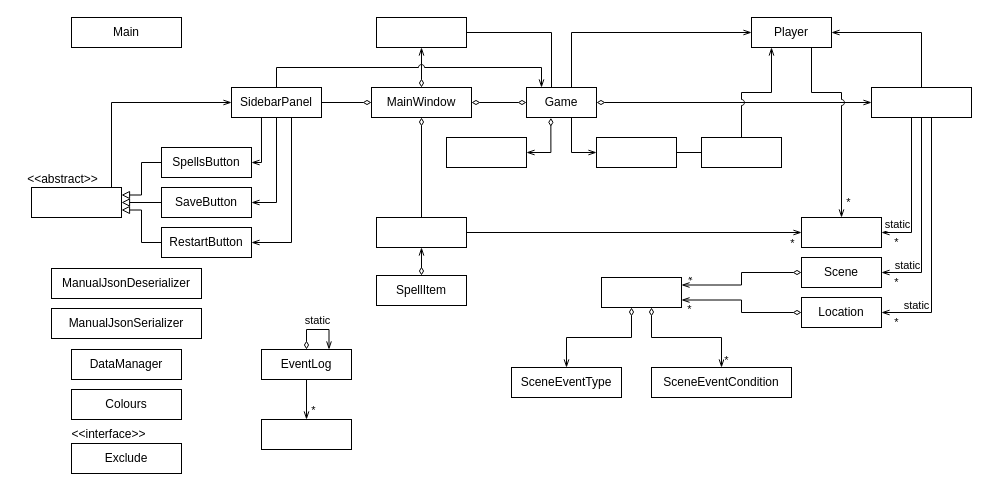
Some shapes in this 989 by 491 pixel diagram are drawn without their labels. The centre of each missing label's shape, as x and y in pixels:
"ConsolePanel" belongs at point 421,32.
"Event" belongs at point 306,434.
"Interpreter" belongs at point 486,152.
"SaveState" belongs at point 741,152.
"SaveSystem" belongs at point 636,152.
"SceneEvent" belongs at point 641,292.
"SidebarButton" belongs at point 76,202.
"Spell" belongs at point 841,232.
"SpellsPanel" belongs at point 421,232.
"StoryController" belongs at point 921,102.
